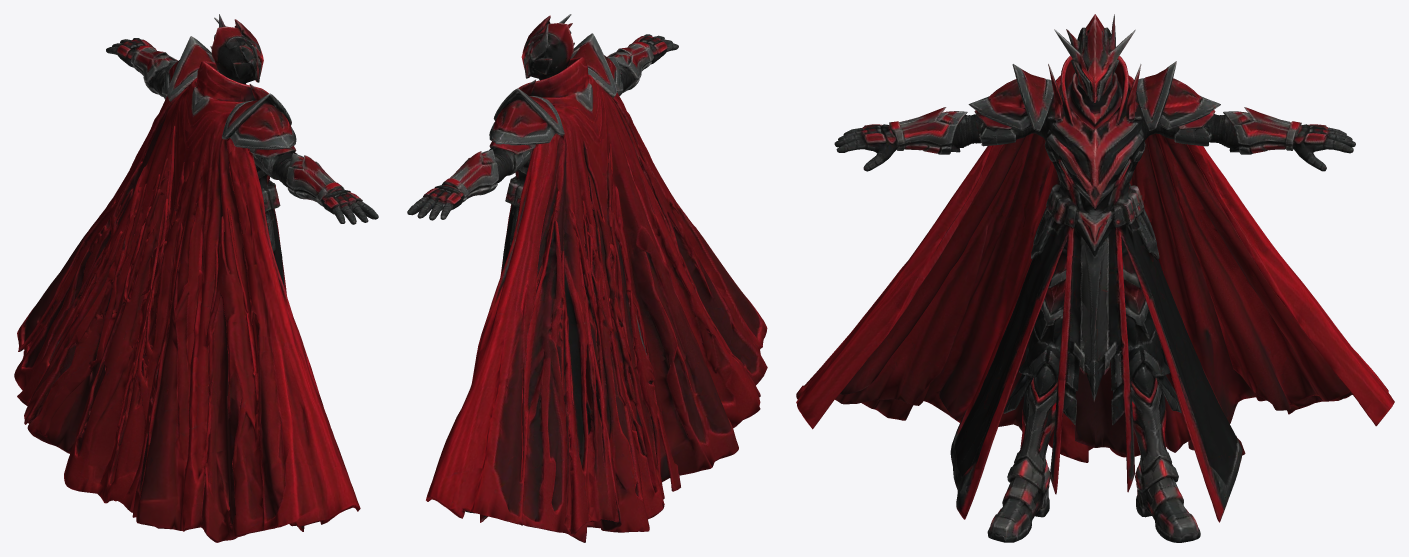
The model's file is herald-commander.glb.
3 renders of one model, left to right at view 1: azimuth 30°, elevation 25°; view 2: azimuth 150°, elevation 25°; view 3: azimuth 270°, elevation 25°, orthographic. The views are drawn at different scales.
Size of the model in its own units: 0.4329 by 1 by 1.08.
Materials: 1 (1 with a texture image).
